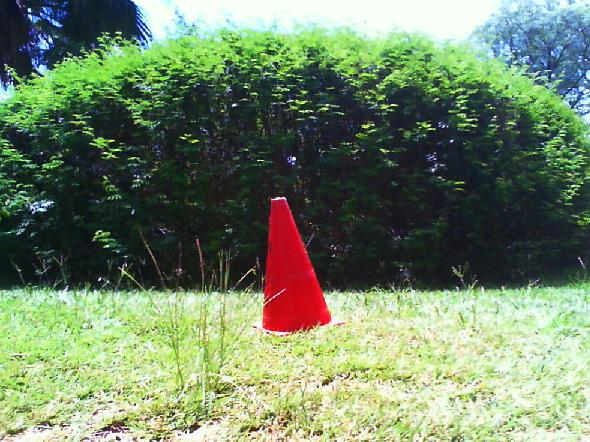0 cone: (259, 197, 345, 335)
